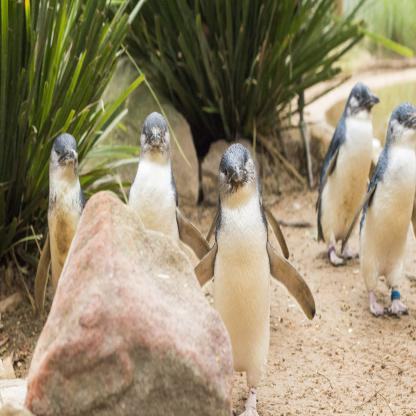Penguin: (175, 130, 320, 411), (126, 112, 219, 346), (338, 89, 416, 336), (20, 128, 100, 351), (312, 66, 383, 268)
